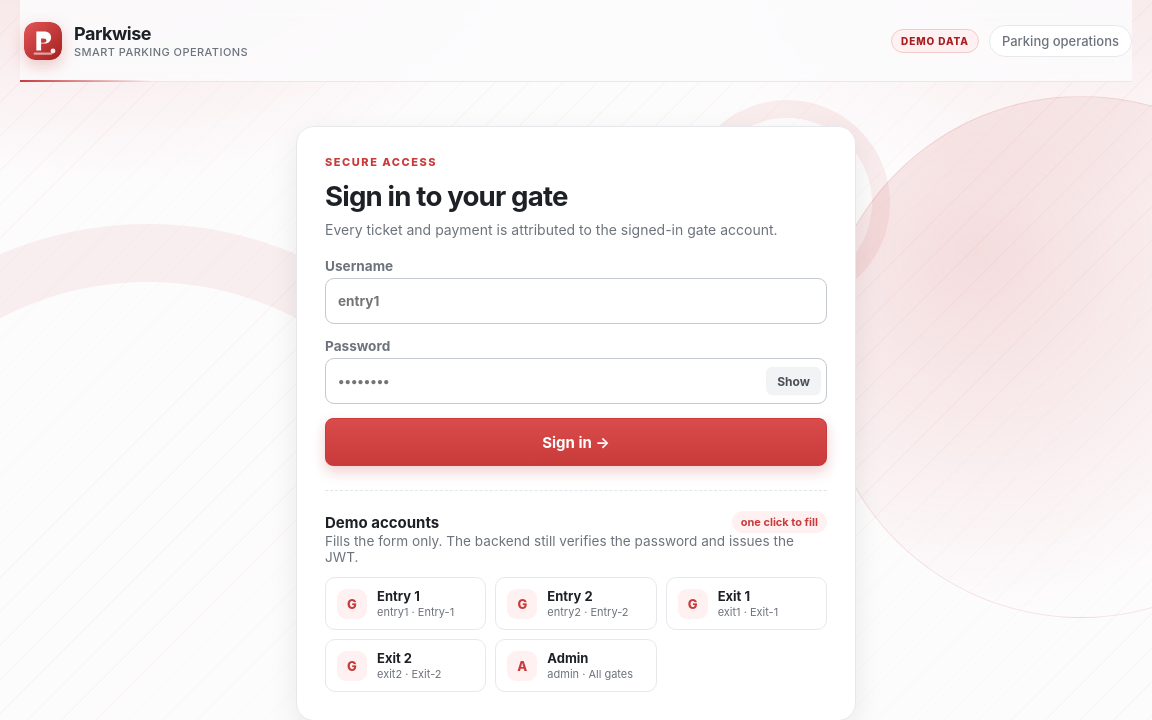
parking console routes › demo account buttons pre-fill credentials without bypassing login
Click the button "G Entry 1 entry1 · Entry-1" at (406, 604), box [325, 577, 486, 630]
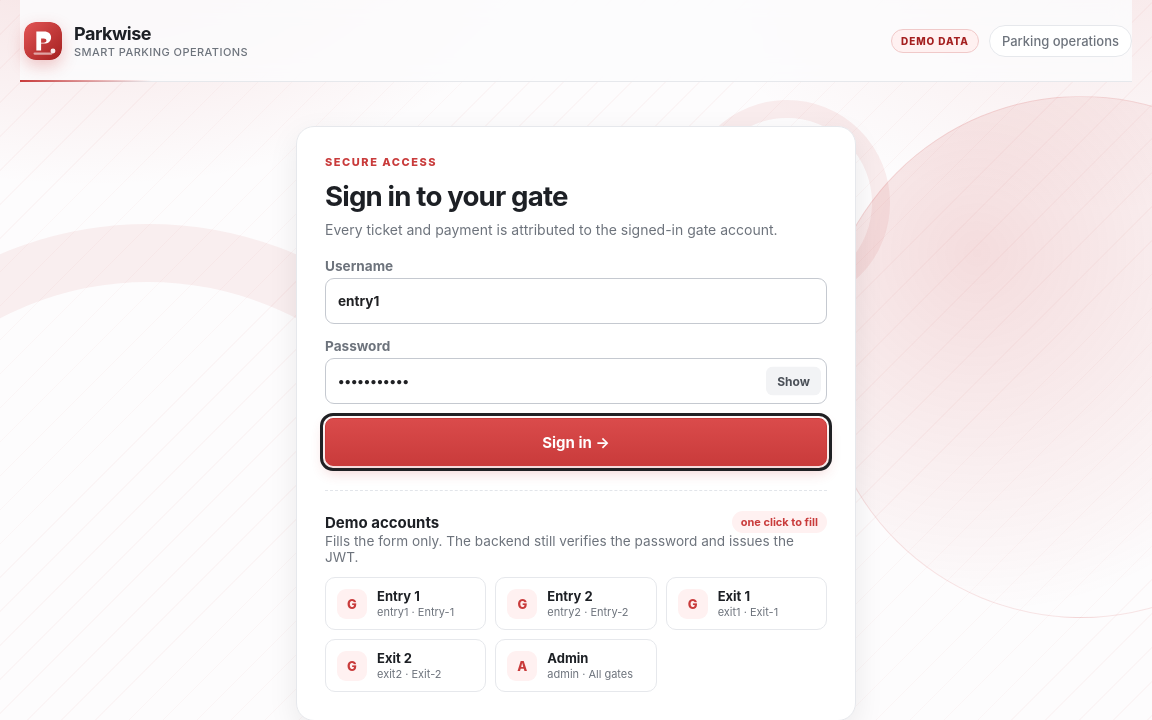
Expected: the field labelled "Username" holds "entry1", [325, 278, 827, 324]
Expected: the password field labelled "Password Show" holds "password123", [325, 358, 827, 404]
